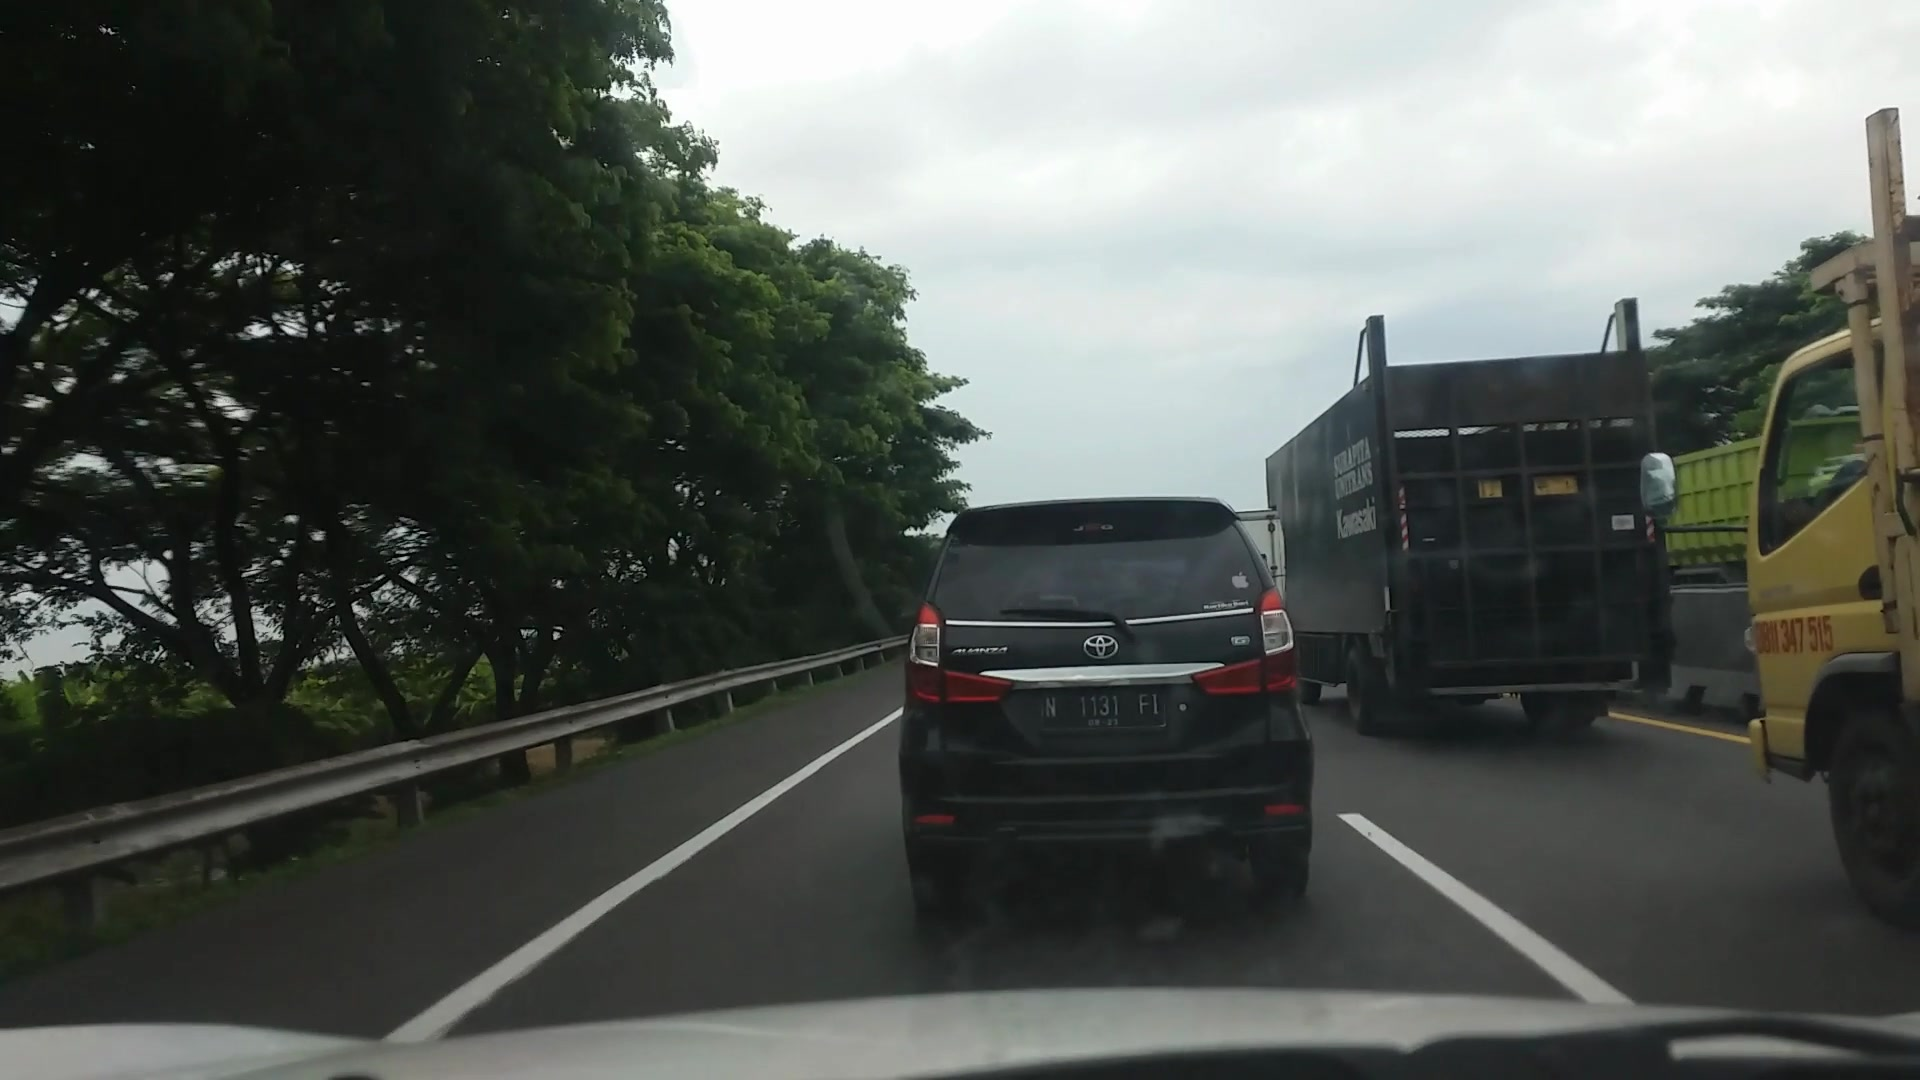plate_positive: (1040, 691, 1167, 731)
